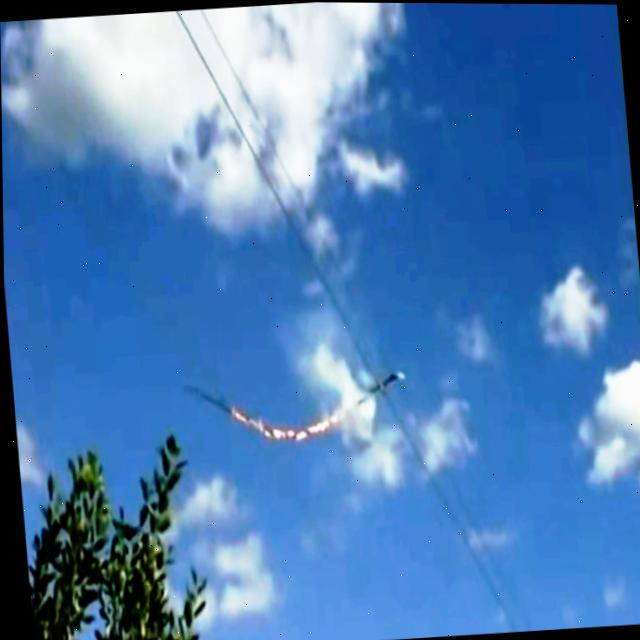obstruction: (189, 371, 403, 439)
wires: (174, 8, 387, 378), (380, 388, 529, 630)
